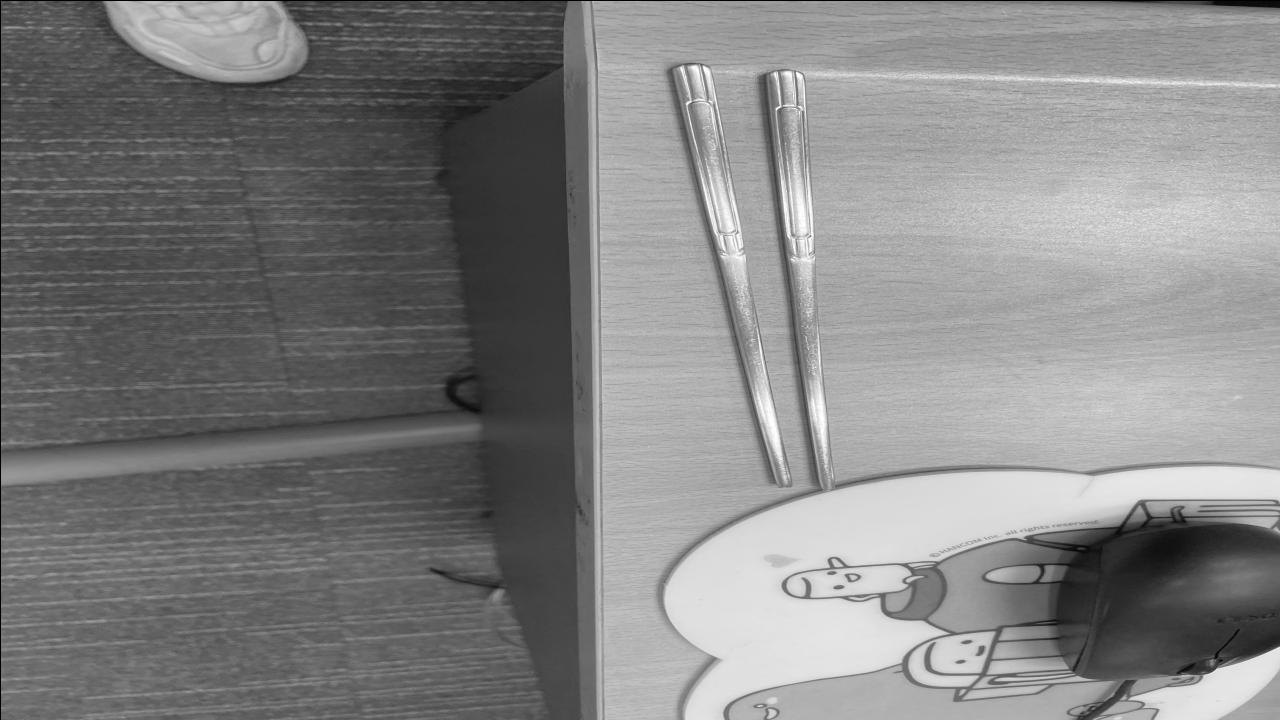chopstick: (668, 66, 831, 492)
